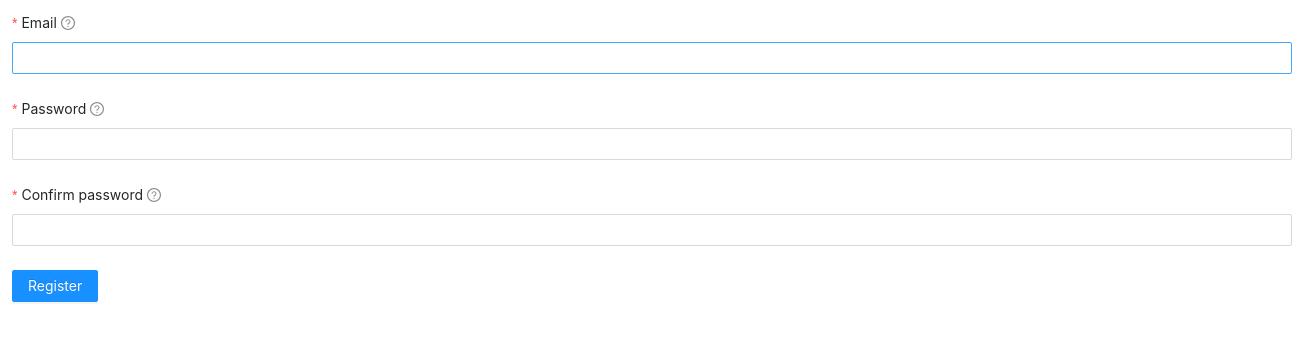
Test case: Register form › should show confirm password length error message
Expected: the text "password must have minimum 6 characters" is not shown
Type "123" into the password field labelled "Confirm password" at (652, 230), box [12,214,1292,246]
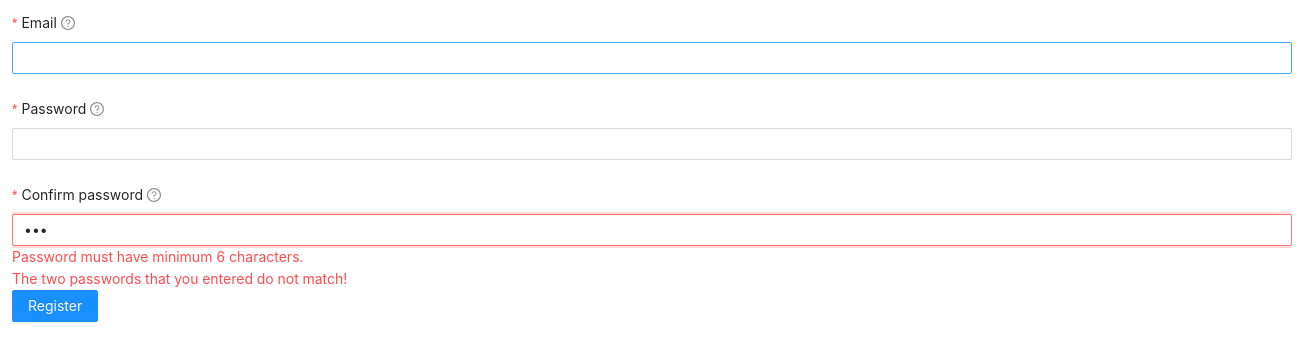
Now the text "Password must have minimum 6 characters." is shown, box [12,248,303,265]
